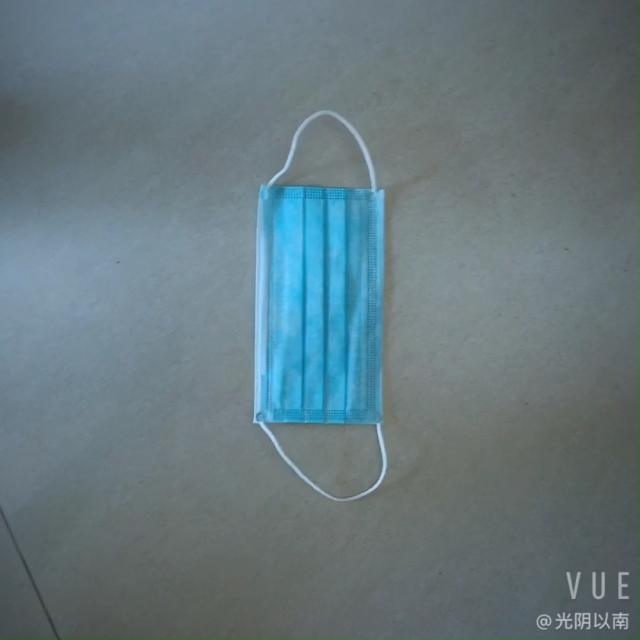face mask: (252, 178, 402, 442)
